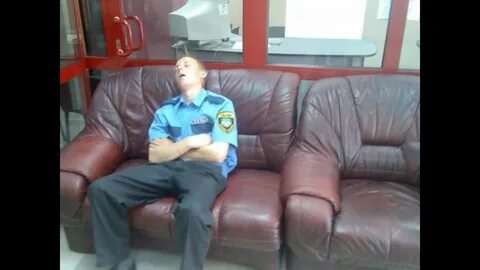sleep: (85, 55, 240, 270)
